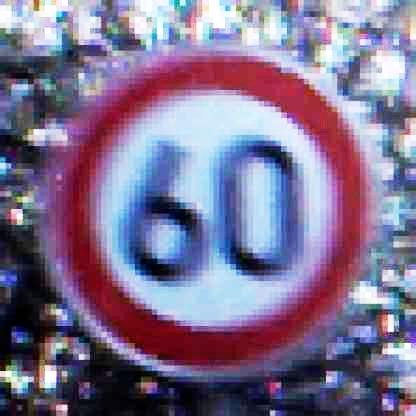Speed Limit -60-: (48, 47, 372, 378)
